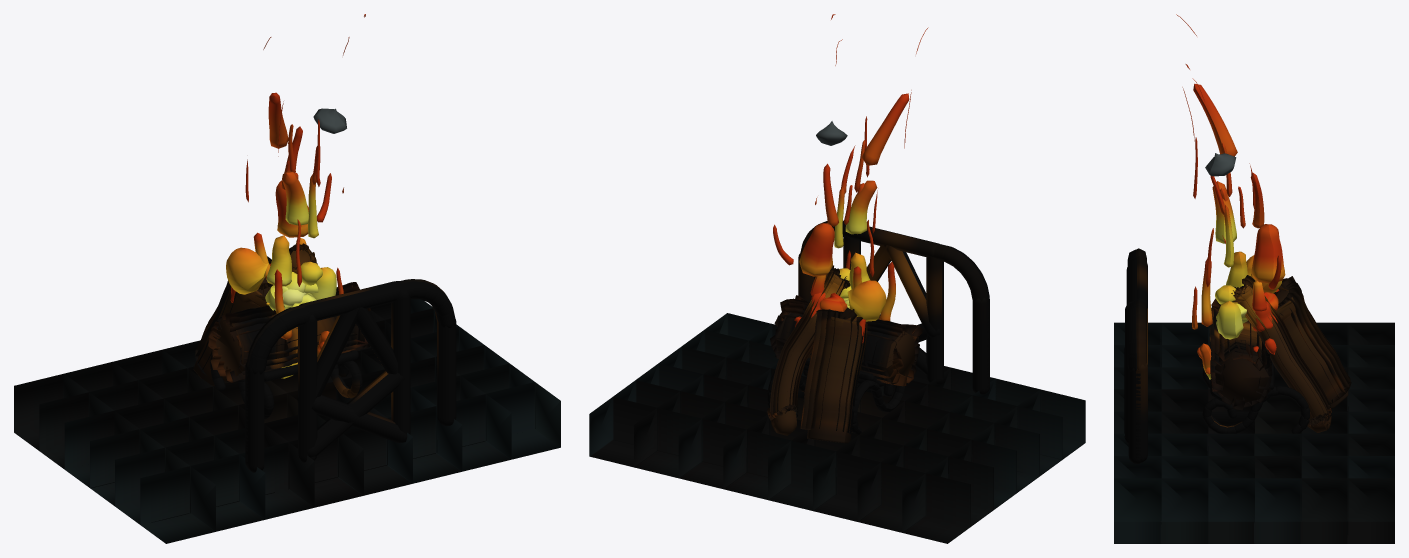
Rendered from fireplace_a.gltf.
3 views of the same model, side by side, from view 1: azimuth 30°, elevation 25°; view 2: azimuth 150°, elevation 25°; view 3: azimuth 270°, elevation 25° (orthographic). The views are drawn at different scales.
Parts seen in each view (by area): view 1: Fire-floor, Bars, Fire, Logs, Bars-rimlight, Holder, Holder1; view 2: Fire-floor, Logs, Fire, Bars-rimlight, Holder, Bars; view 3: Fire-floor, Logs, Fire, Bars, Bars-rimlight, Holder1, Smoke.
Boxes of the visible parts, left/top/right/bottom form: Fire-floor: left=14, top=299, right=560, bottom=543; Bars: left=246, top=281, right=456, bottom=472; Fire: left=226, top=14, right=365, bottom=378; Logs: left=193, top=243, right=370, bottom=385; Bars-rimlight: left=245, top=279, right=445, bottom=466; Holder: left=210, top=350, right=360, bottom=419; Holder1: left=219, top=350, right=362, bottom=418; Fire-floor: left=589, top=313, right=1085, bottom=543; Logs: left=766, top=265, right=923, bottom=443; Fire: left=773, top=14, right=928, bottom=343; Bars-rimlight: left=798, top=221, right=988, bottom=394; Holder: left=769, top=358, right=905, bottom=434; Bars: left=814, top=220, right=989, bottom=394; Fire-floor: left=1114, top=322, right=1394, bottom=543; Logs: left=1209, top=275, right=1351, bottom=432; Fire: left=1176, top=14, right=1285, bottom=379; Bars: left=1124, top=249, right=1140, bottom=463; Bars-rimlight: left=1131, top=248, right=1147, bottom=462; Holder1: left=1202, top=363, right=1309, bottom=433; Smoke: left=1205, top=153, right=1236, bottom=176.
Bounding box in the file's own units: 1.23 × 1.34 × 0.8217.
